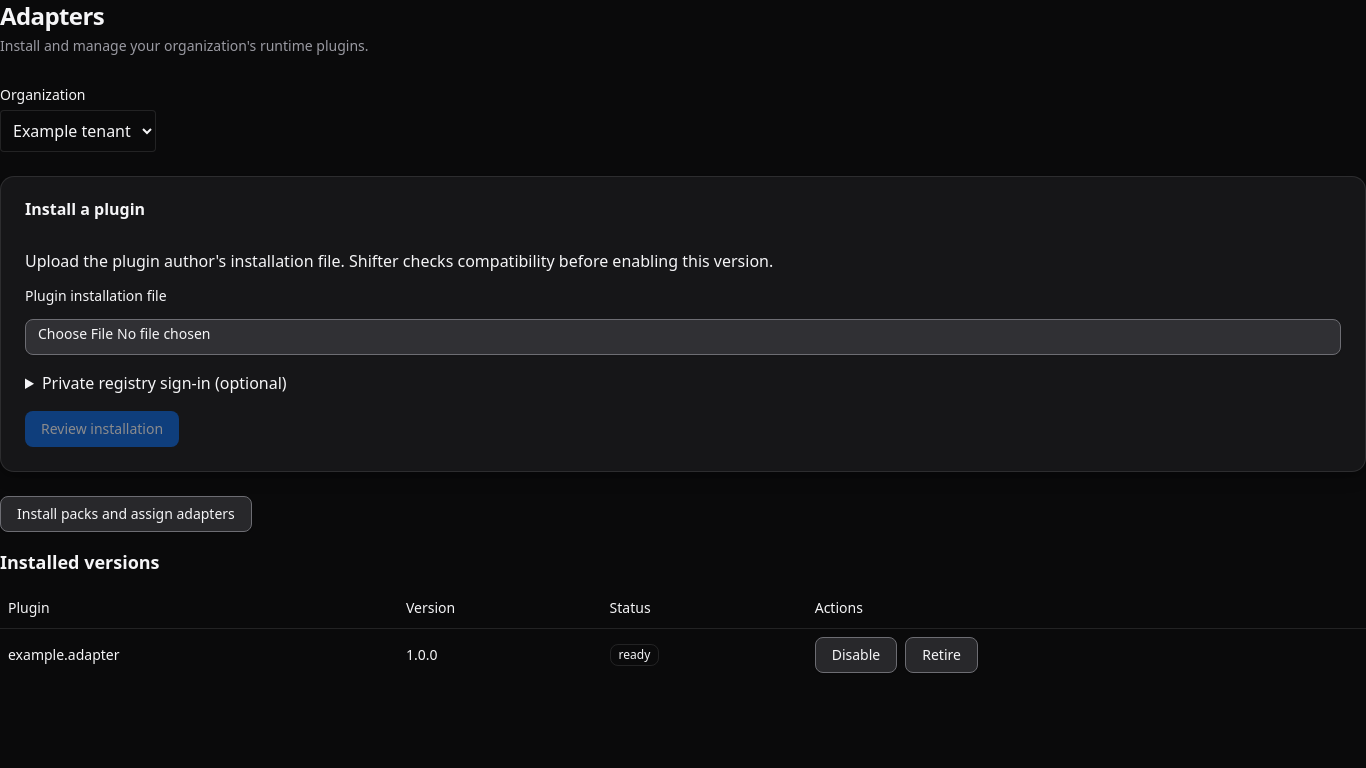
Scenario: tenant plugin administration › requires confirmation and preserves a rejected action
Click the button "Disable".
click(856, 654)  # box [815,636,897,672]
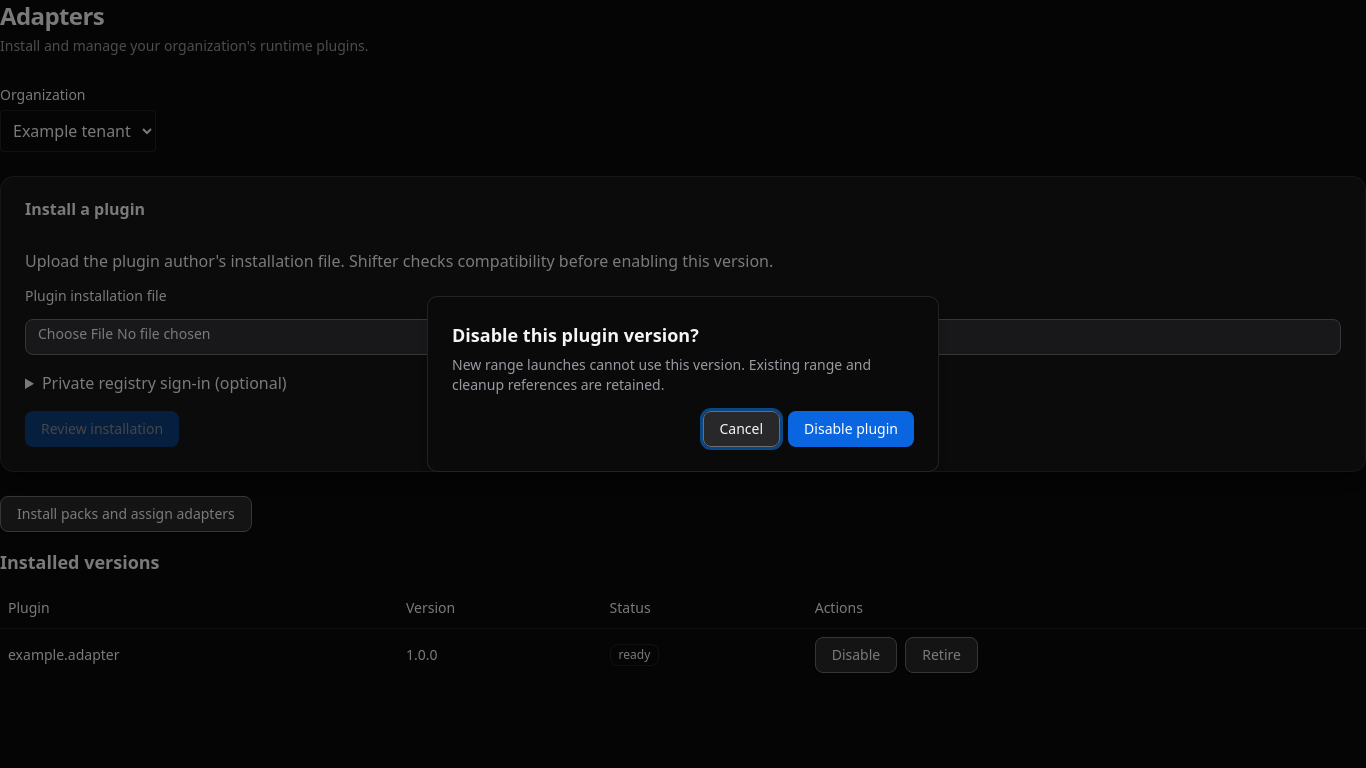
Click the button "Disable plugin".
click(851, 429)  # box [788,411,914,447]
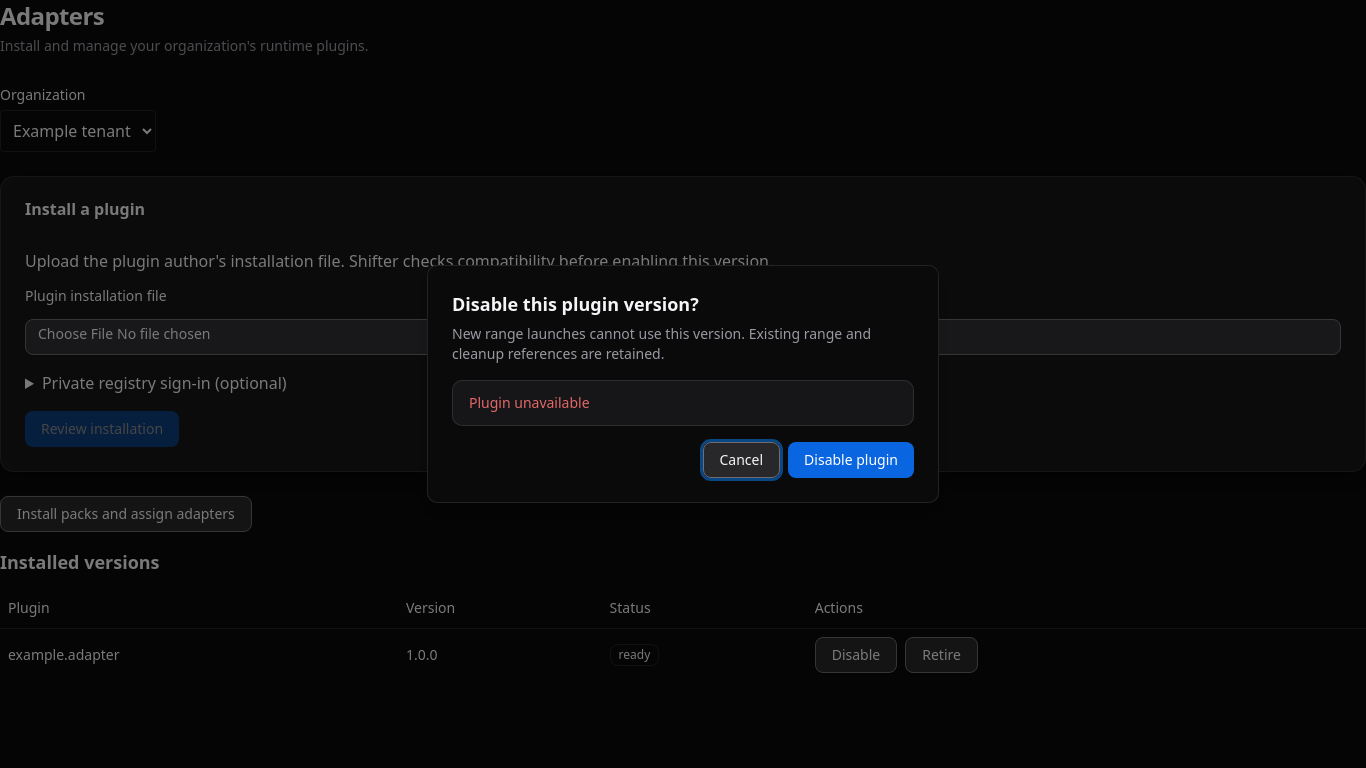
Check: the dialog is shown, box [427,265,939,503]
Check: the text "Plugin unavailable" is shown, box [469,393,590,412]
